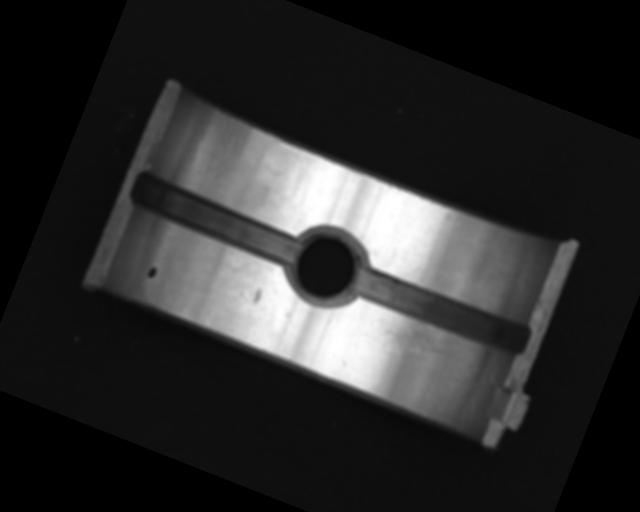blot: (146, 264, 159, 280)
bruise: (252, 286, 264, 304)
gap: (348, 259, 534, 362), (125, 171, 303, 269)
hole: (275, 214, 377, 319)
scratch: (367, 304, 488, 387)
